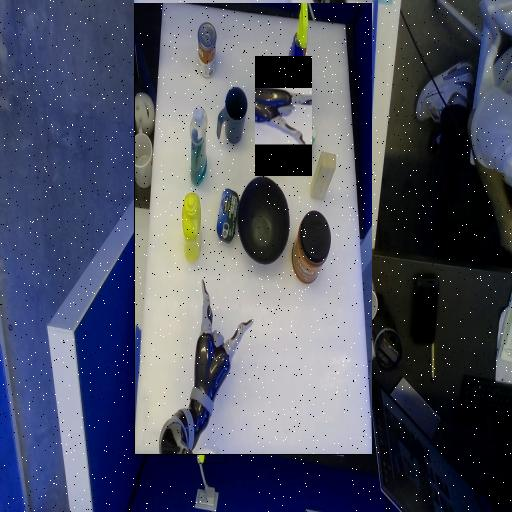bowl: (218, 194, 268, 279)
cleanser: (300, 271, 316, 350)
coffee_can: (175, 190, 214, 229)
jaco: (255, 88, 312, 145)
meat_can: (268, 214, 289, 267)
mug: (259, 313, 289, 369)
mustard_bottle: (306, 195, 324, 263)
rubik: (190, 295, 212, 338)
soup_can: (290, 379, 308, 434)
tennis_ball: (221, 300, 238, 317)
windex: (198, 345, 225, 463)
wooden_block: (170, 268, 195, 293)
workspace: (134, 3, 372, 454)
